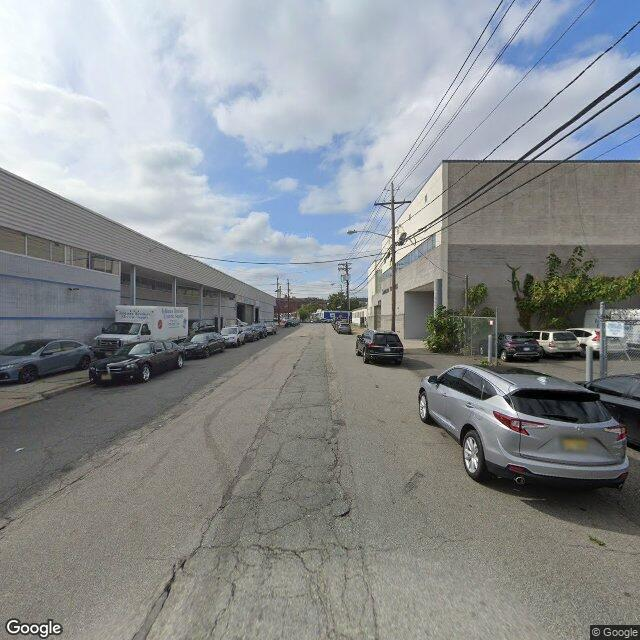pothole: (163, 555, 188, 596), (333, 504, 357, 524)
